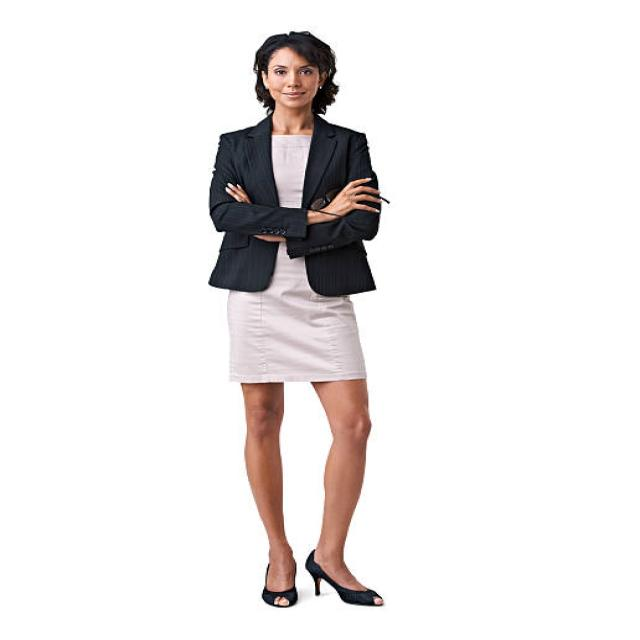Edited images: (177, 14, 445, 634)
